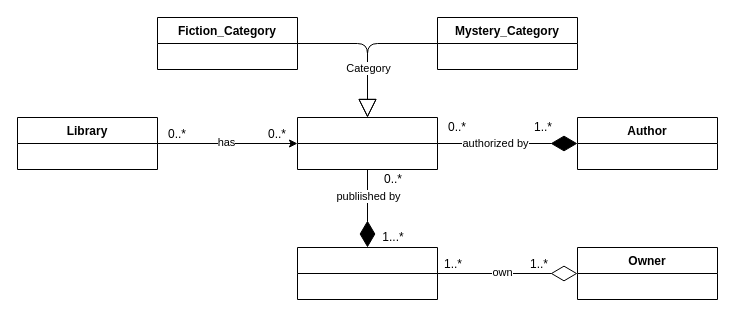
Some shapes in this 735 by 317 pixel diagram are drawn without their labels. Each missing label, with the box of its shape:
Book: (296, 116, 438, 170)
Publisher: (296, 246, 438, 300)
